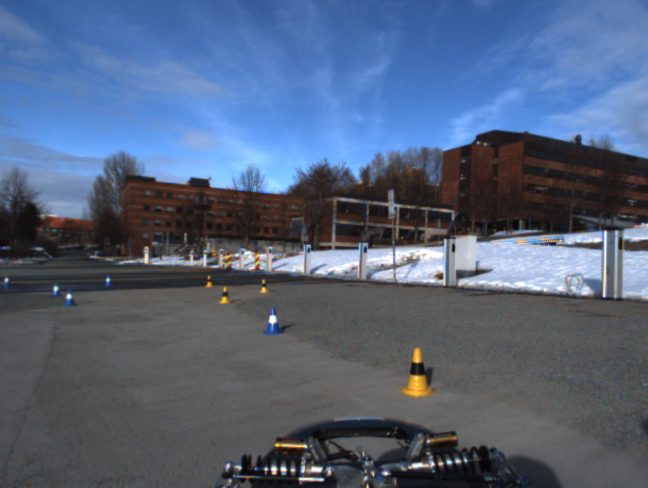cone-small-blue: (263, 307, 283, 336), (63, 289, 76, 306), (51, 281, 61, 297), (103, 274, 112, 287), (3, 276, 11, 287)
cone-small-yellow: (398, 347, 438, 398), (218, 286, 231, 305), (205, 274, 214, 289), (259, 279, 268, 294)
